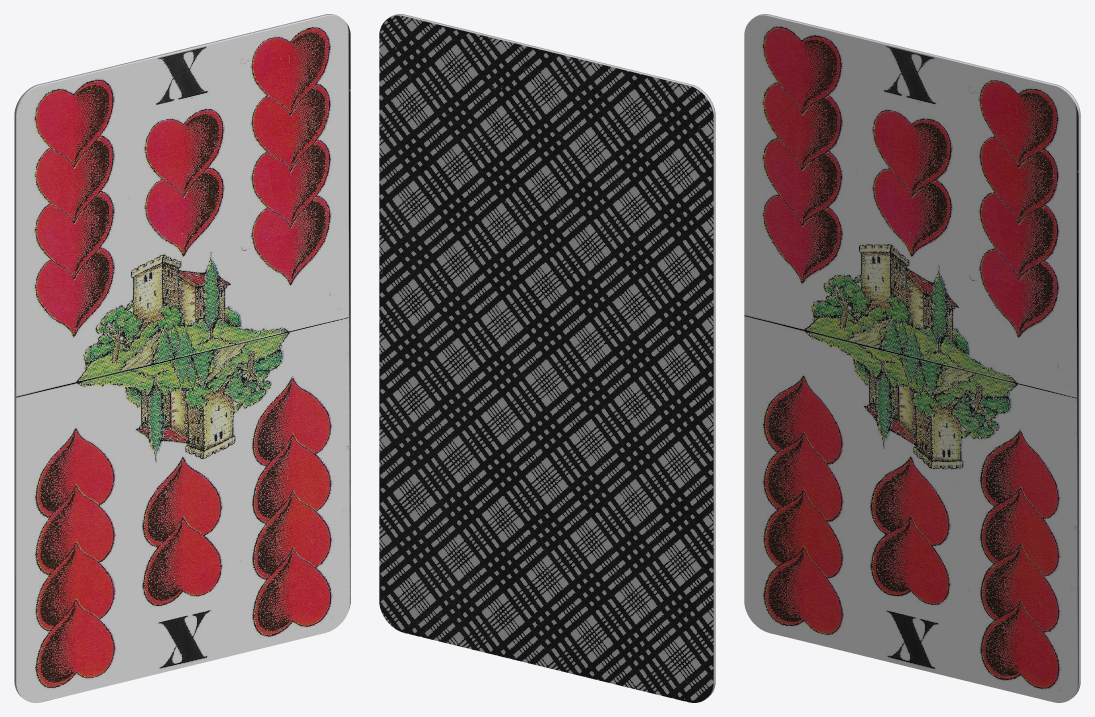
Rendered from srce10.glb.
The picture shows the model from 3 angles, left to right: view 1: azimuth 30°, elevation 25°; view 2: azimuth 150°, elevation 25°; view 3: azimuth 330°, elevation 25°; orthographic projection.
Visible parts, largest first — view 1: Curve; view 2: Curve; view 3: Curve.
Part boxes in pixels (<box>): Curve: <box>14,14,350,702</box>; Curve: <box>379,14,715,702</box>; Curve: <box>744,14,1080,702</box>.
Bounding box in the file's own units: 3.93 × 6.93 × 0.0411.
3 materials, 2 textured.
